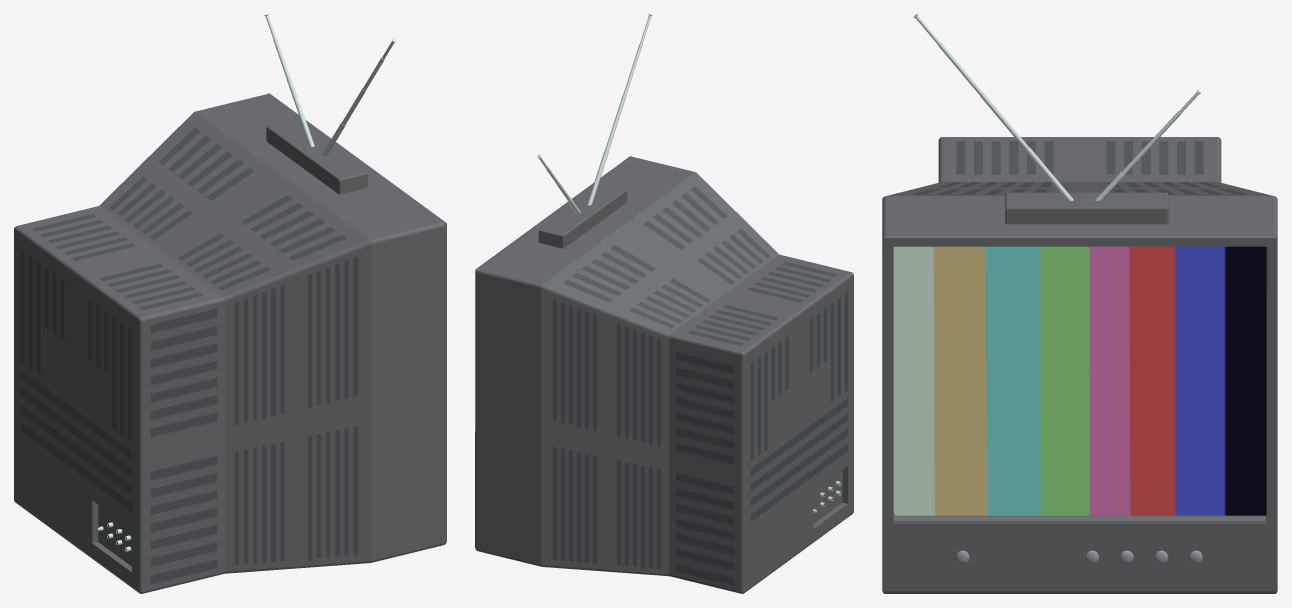
File: crt-2101.glb
3 views of the same model, side by side, from view 1: azimuth 30°, elevation 25°; view 2: azimuth 150°, elevation 25°; view 3: azimuth 270°, elevation 25° (orthographic). The views are drawn at different scales.
Parts seen in each view (by area): view 1: Box, Antennae; view 2: Box, Antennae; view 3: Box, Antennae, Buttons.
Boxes of the visible parts, left/top/right/bottom form: Box: left=14, top=93, right=446, bottom=593; Antennae: left=264, top=14, right=396, bottom=194; Box: left=475, top=156, right=853, bottom=593; Antennae: left=537, top=14, right=652, bottom=248; Box: left=882, top=137, right=1277, bottom=593; Antennae: left=913, top=14, right=1200, bottom=224; Buttons: left=956, top=550, right=1202, bottom=564.
Bounding box in the file's own units: 1.84 × 3.13 × 2.
Materials: 3 (1 with a texture image).
